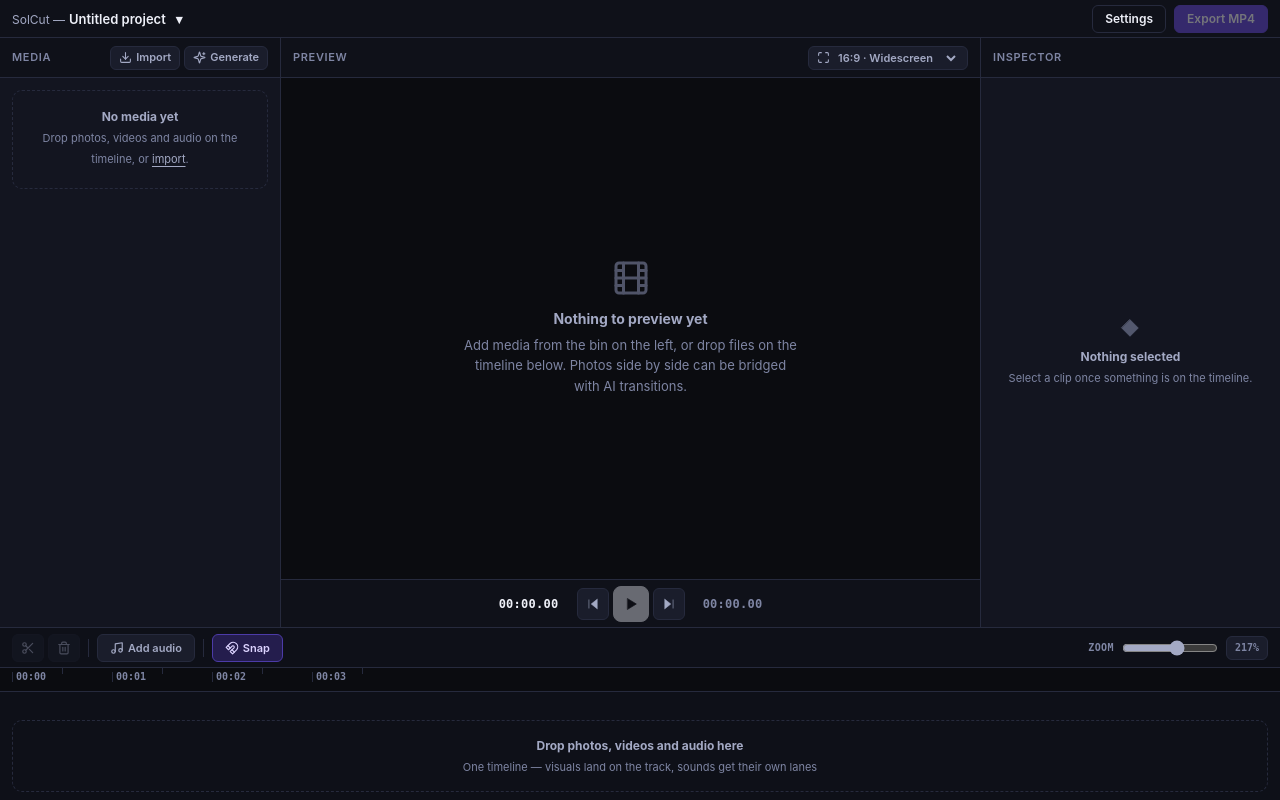
Test: generating a video in the media bin › lands in the bin as a measured video, and leaves the timeline alone
Click the button with aria-label "Generate a photo or video" at {"x": 226, "y": 58}, box [184,46,268,70]
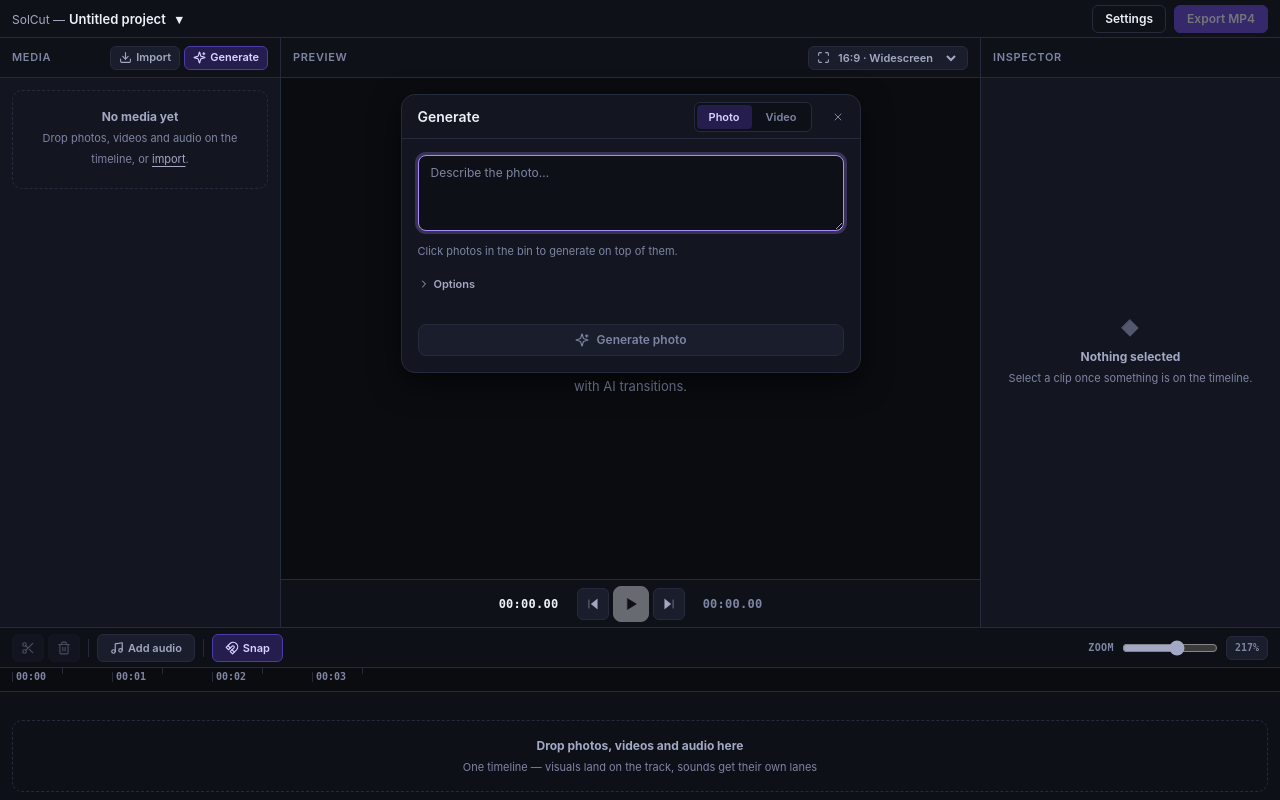
Click the button "Video" at {"x": 781, "y": 116}, box [754,104,808,128]
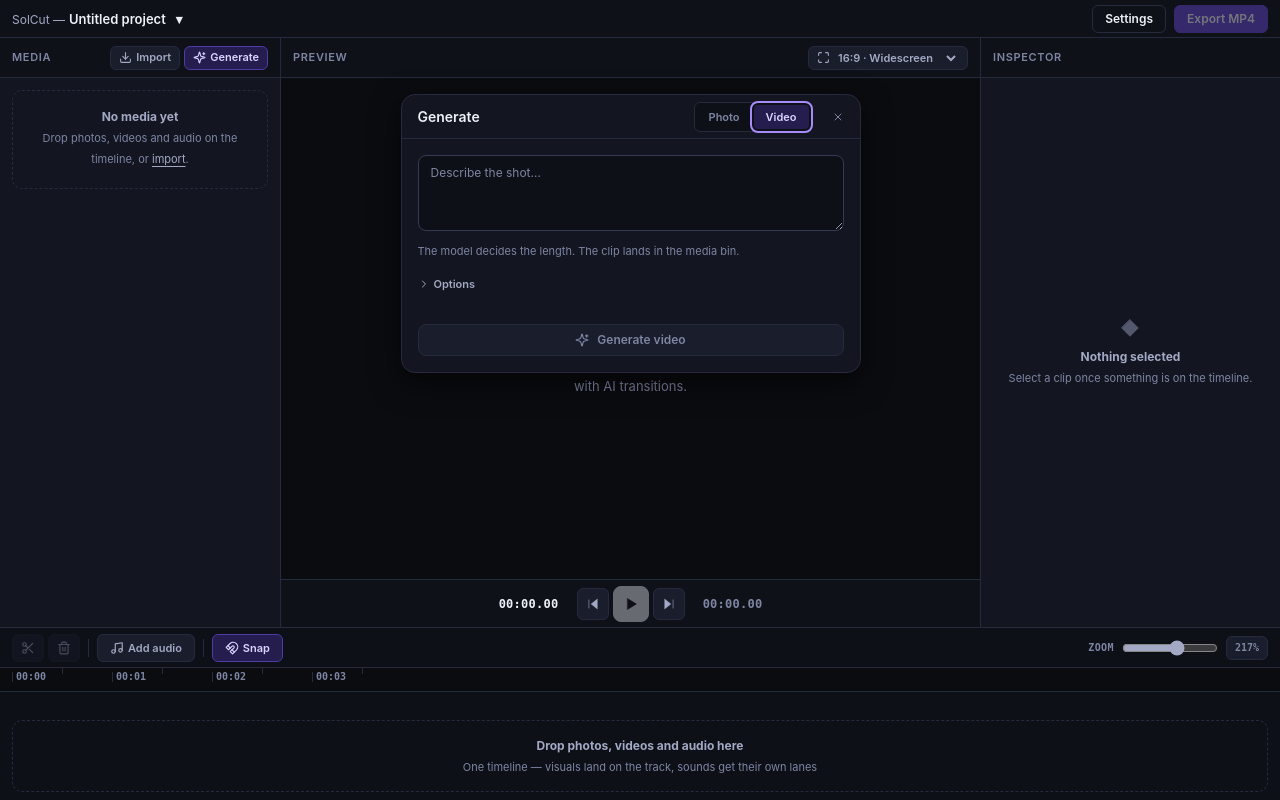
Type "a drone rises over the surf" into the text box named "Describe the video to generate" at {"x": 630, "y": 193}, box [418,155,844,231]
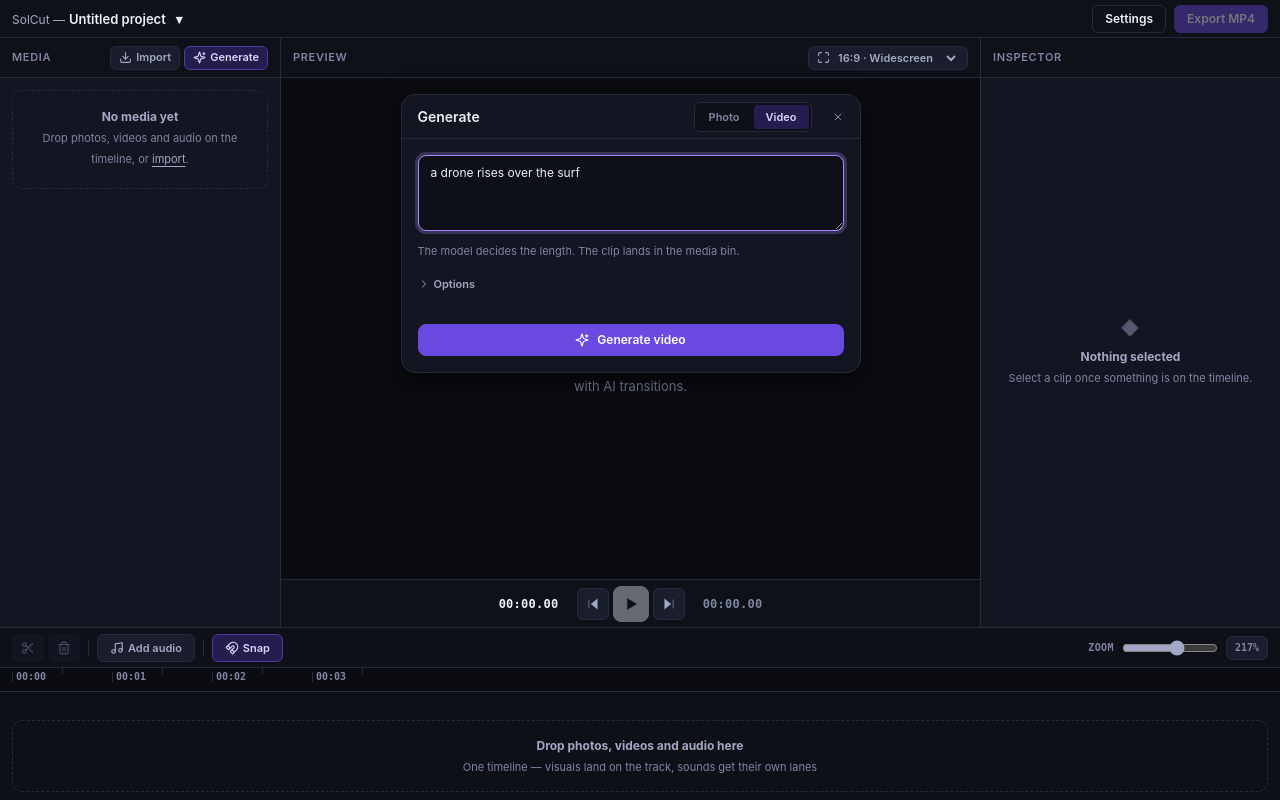
Click the button "Generate video" at {"x": 630, "y": 340}, box [418,324,844,356]
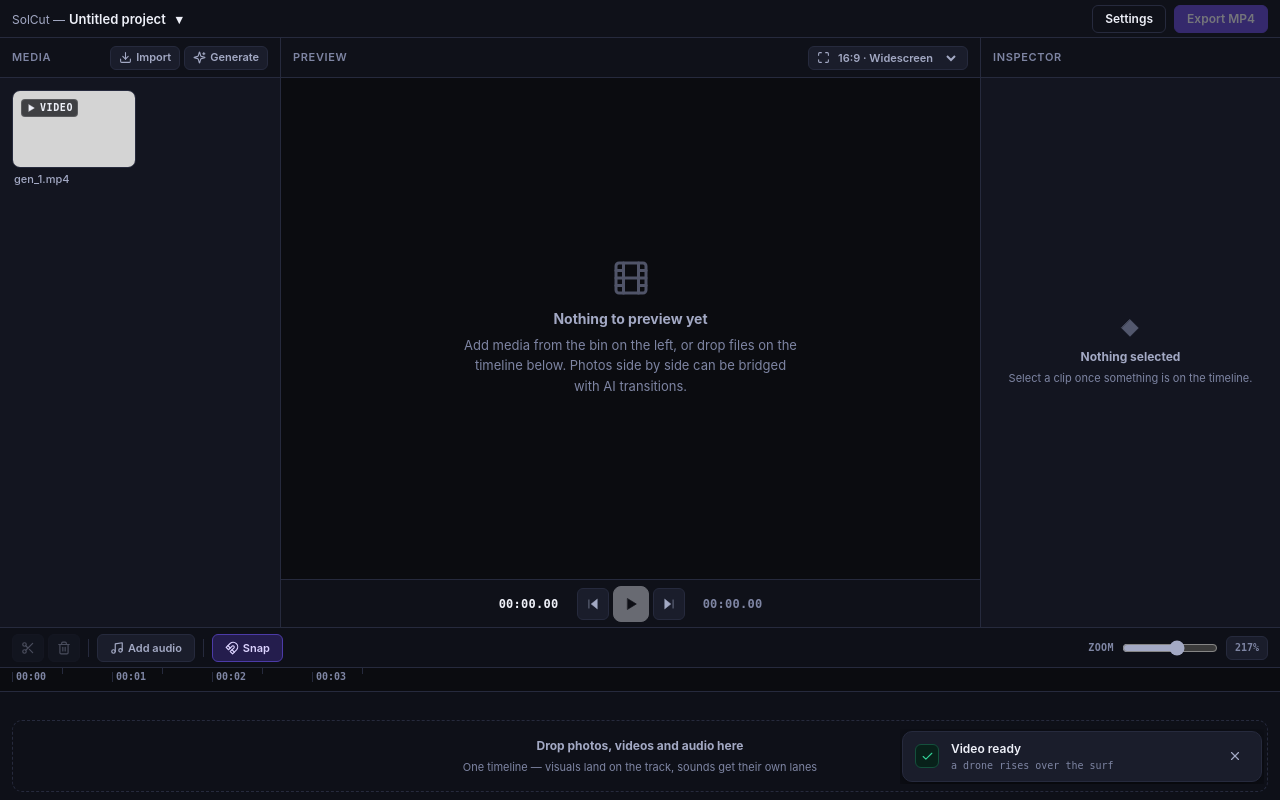
Expected: the text "Video ready" is shown, [951,741,1021,756]
